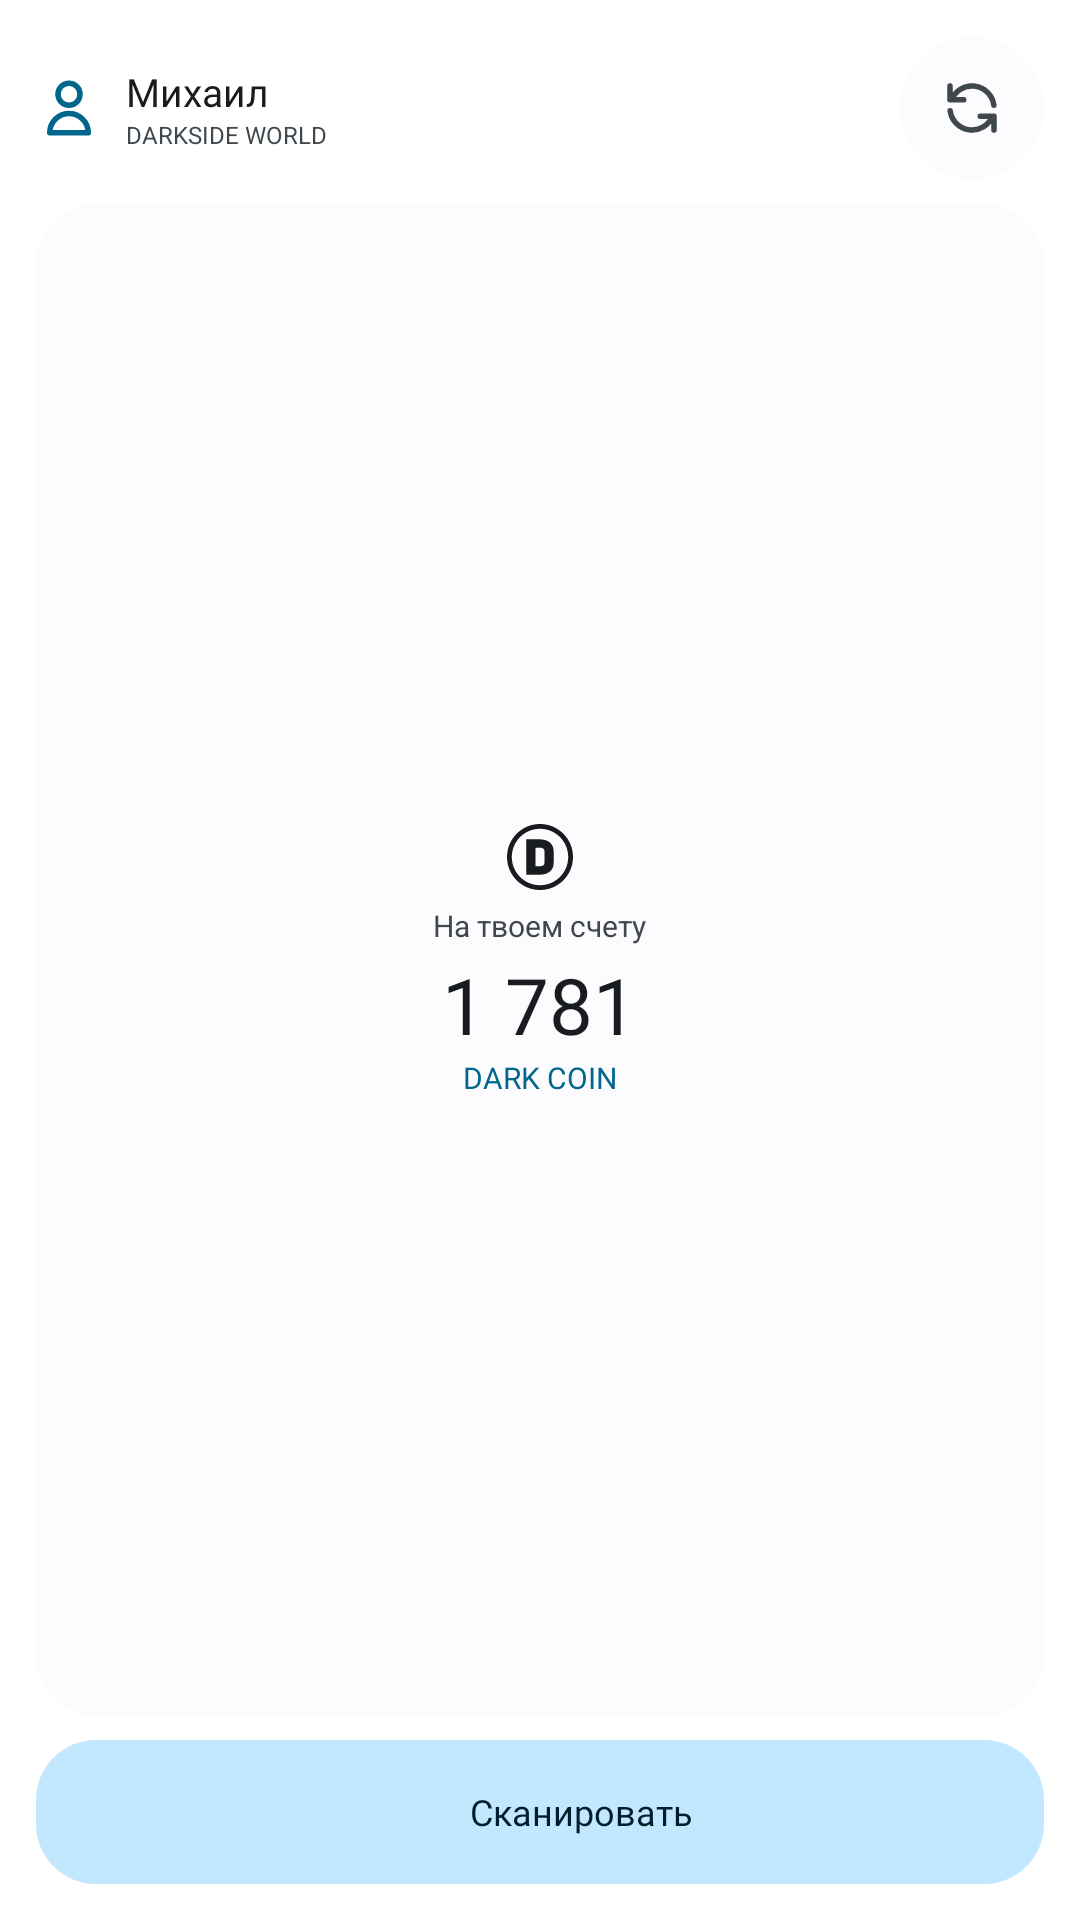

Where to tap for icons on this 1080 × 1920 app screen, as (x=x, y=y):
coin: (x=540, y=857)
user: (x=69, y=108)
Обновить баланс: (x=972, y=108)
